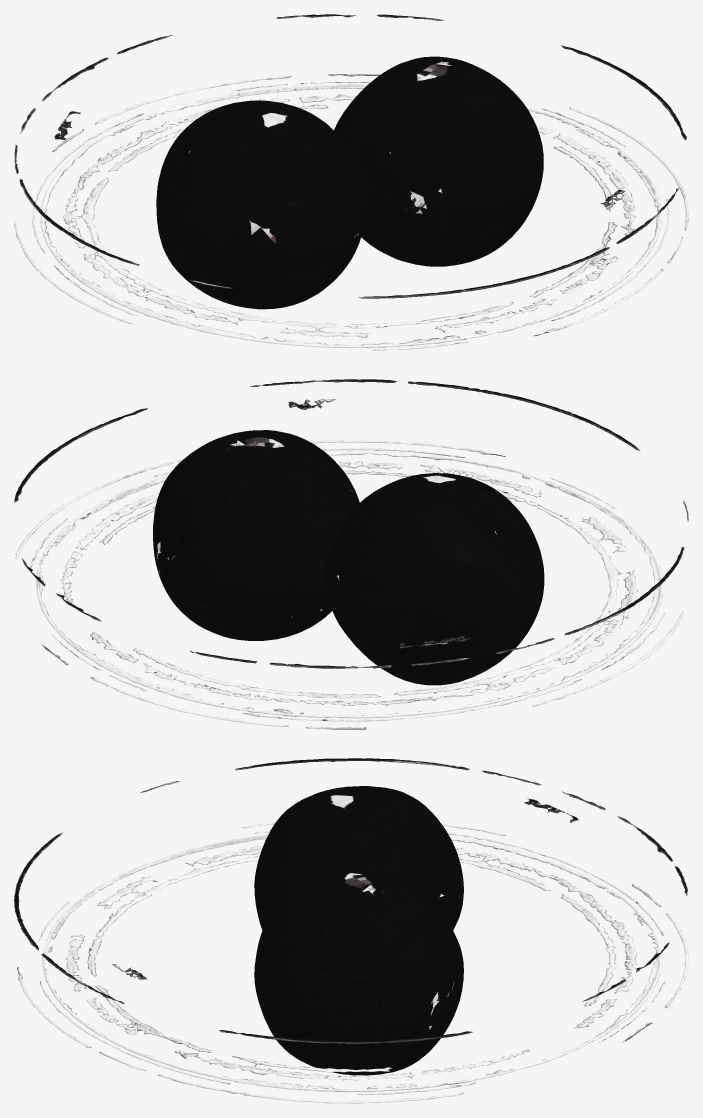
Rendered from merger.glb.
3 views of the same model, one above another, from view 1: azimuth 30°, elevation 25°; view 2: azimuth 150°, elevation 25°; view 3: azimuth 270°, elevation 25° (orthographic).
Size of the model in its own units: 1.91 by 0.5745 by 1.91.
1 material, 1 textured.
